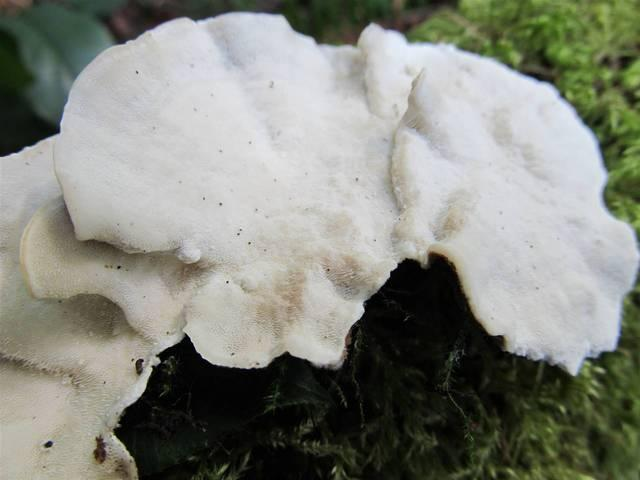poisonous_mushroom: (1, 9, 637, 477)
